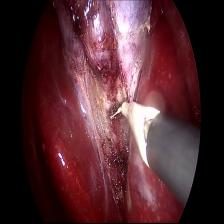Hook: (107, 96, 164, 164)
